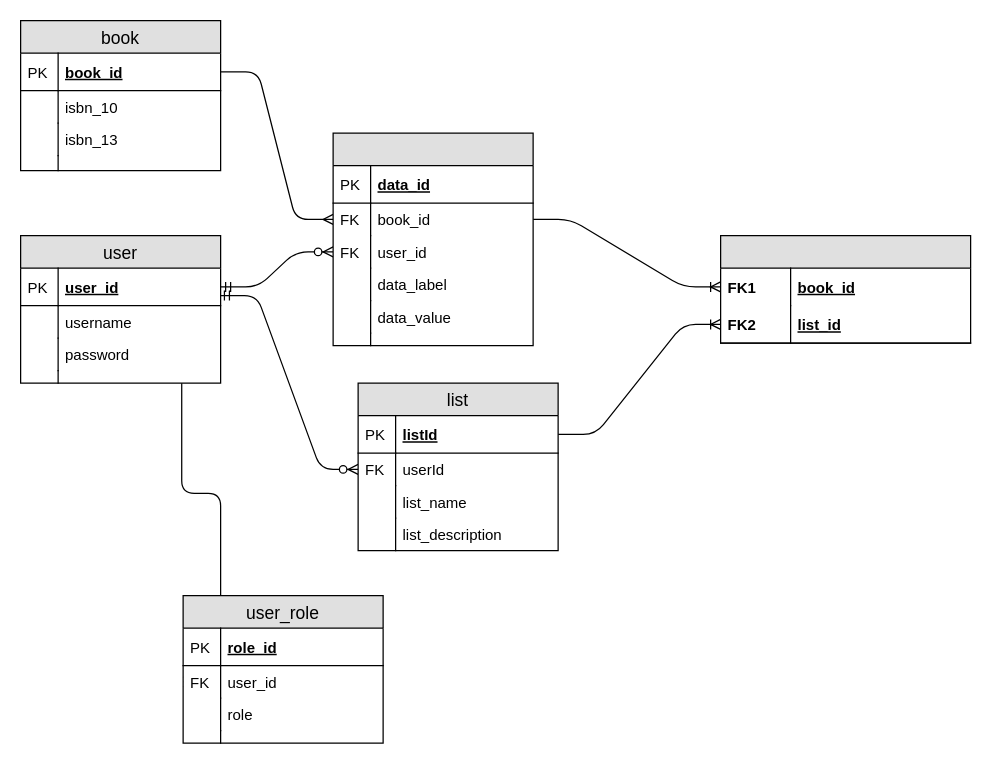
This 991x764 diagram has some shape labels left out. The shapes that lost their labels are listed below. From the top down, each one's box as (x1, y1, x2, y2) in pixels, then its label:
(332, 132, 533, 346): user_book_data
(719, 234, 971, 343): **user_book_list
